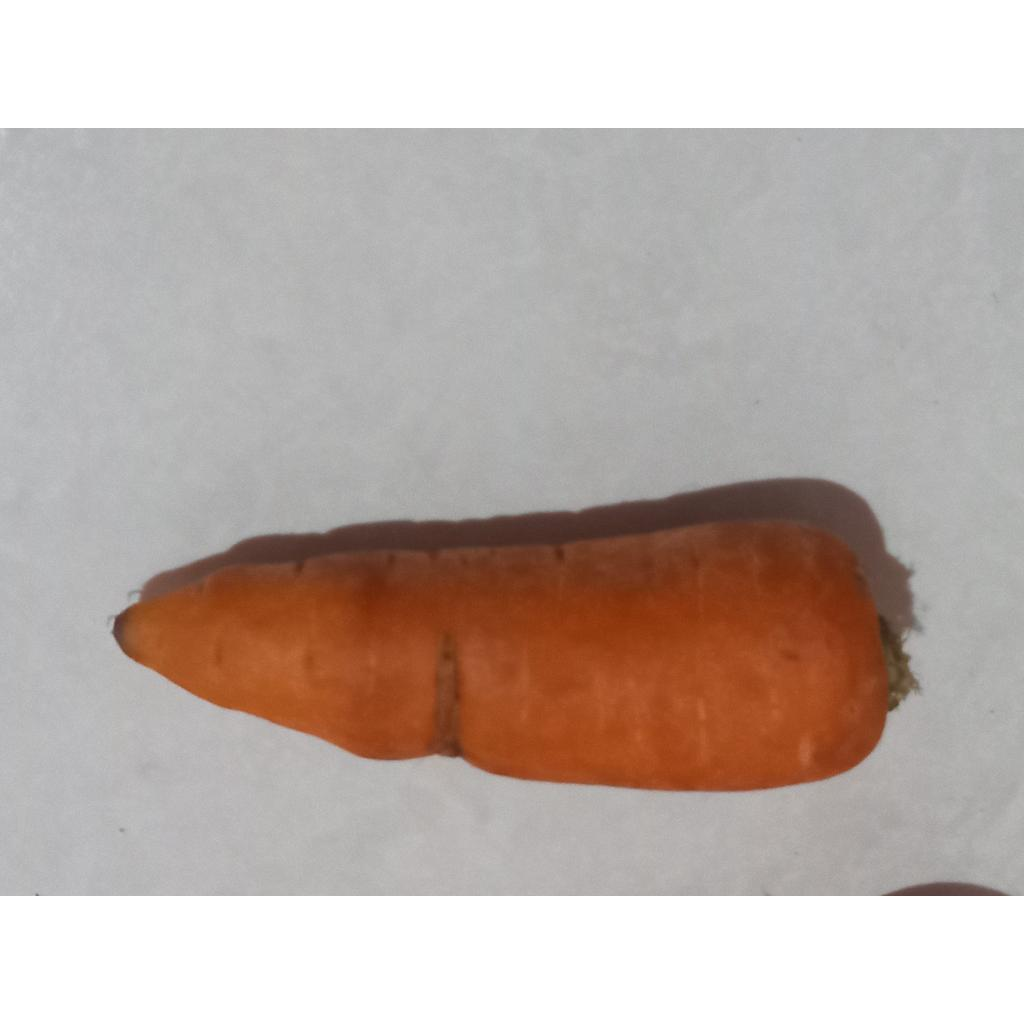carrot: (114, 524, 890, 790)
